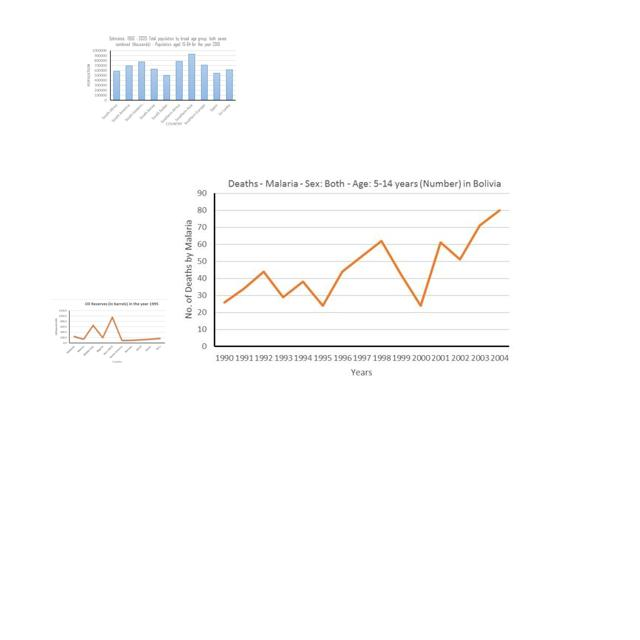Graph: (171, 174, 517, 378), (81, 33, 239, 127), (51, 299, 168, 367)
